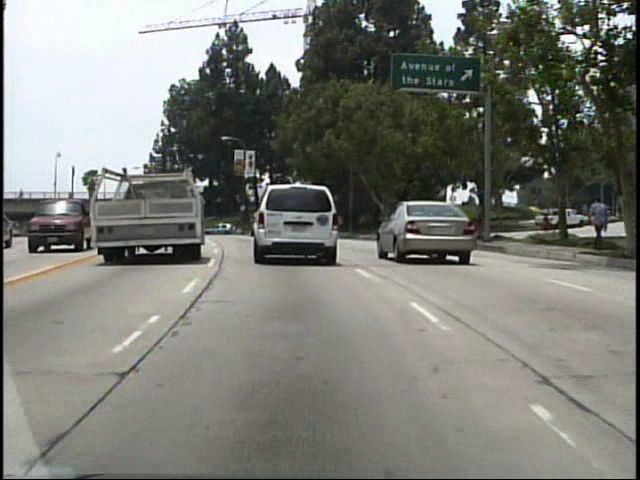person: (582, 191, 606, 256), (15, 185, 25, 204)
